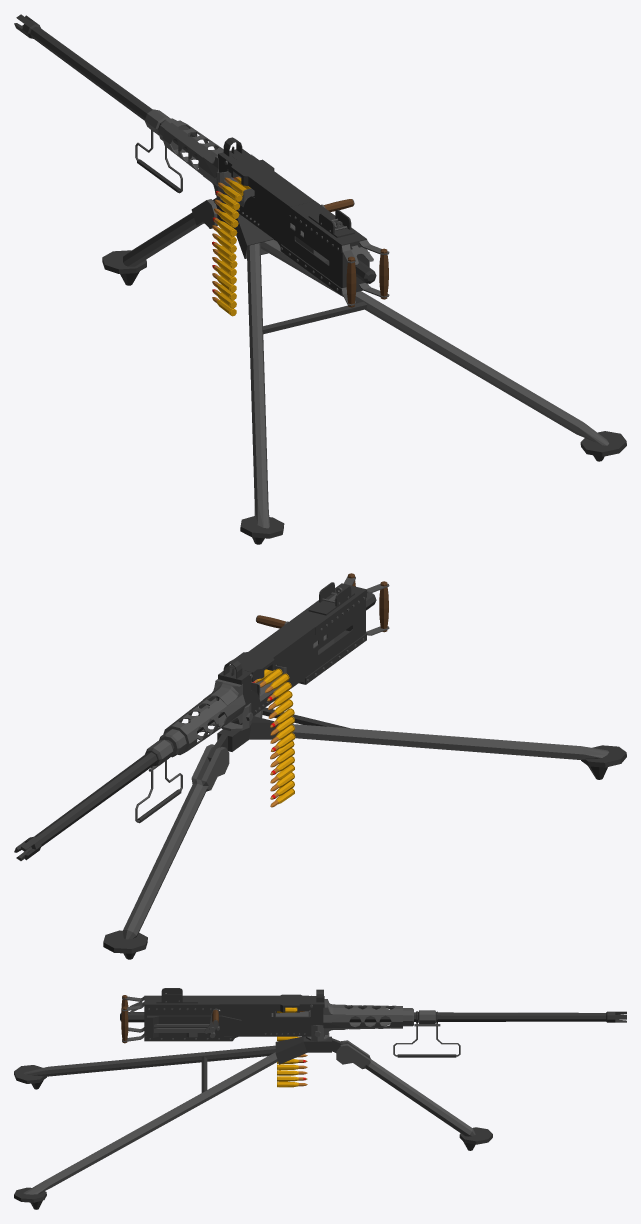
The model's file is M2_50cal.fbx.
3 renders of one model, top to bottom at view 1: azimuth 30°, elevation 25°; view 2: azimuth 150°, elevation 25°; view 3: azimuth 270°, elevation 25°, orthographic. The views are drawn at different scales.
Parts seen in each view (by area): view 1: M2, Gun, Magazin, Slide; view 2: Gun, M2, Magazin, Slide; view 3: Gun, M2, Slide, Magazin.
Part boxes in pixels (box(x1,y1,x2,y2)): M2: box(102, 186, 626, 544); Gun: box(14, 14, 389, 307); Magazin: box(212, 176, 250, 316); Slide: box(228, 154, 314, 215); Gun: box(14, 573, 389, 860); M2: box(103, 703, 626, 959); Magazin: box(252, 668, 295, 807); Slide: box(229, 621, 314, 681); Gun: box(120, 988, 626, 1057); M2: box(14, 1025, 492, 1209); Slide: box(219, 994, 315, 1012); Magazin: box(277, 1007, 307, 1087).
Bounding box in the file's own units: 105 × 58.04 × 202.
